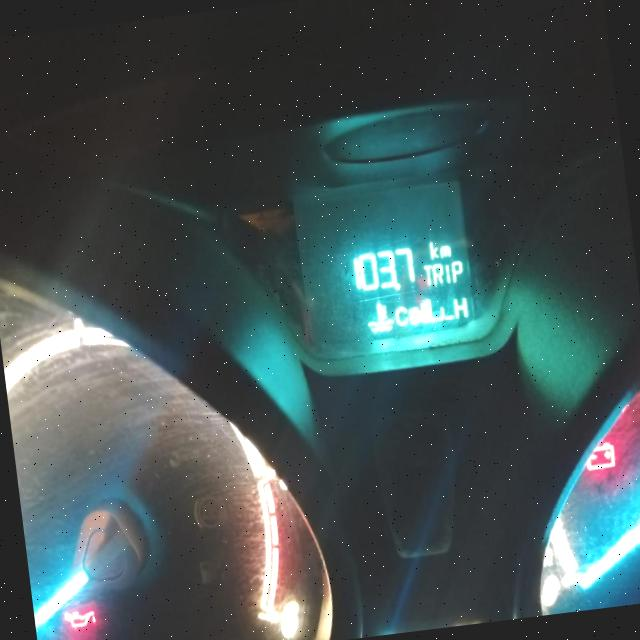odometer: (276, 166, 490, 377)
